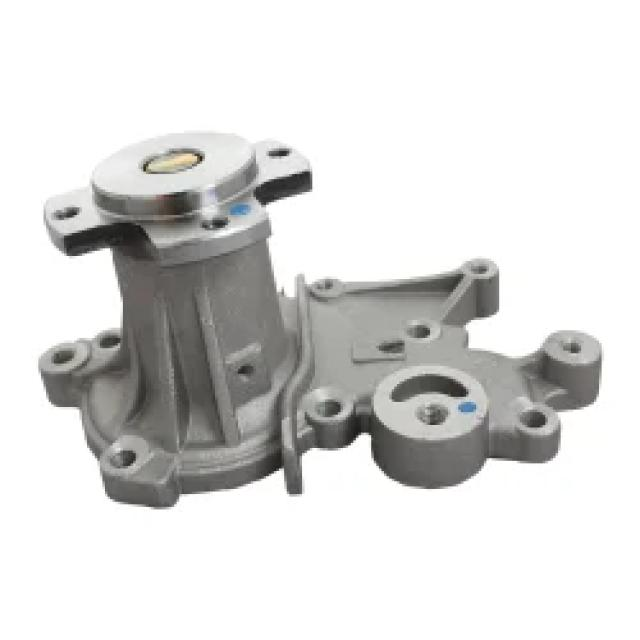video2: (41, 124, 607, 512)
